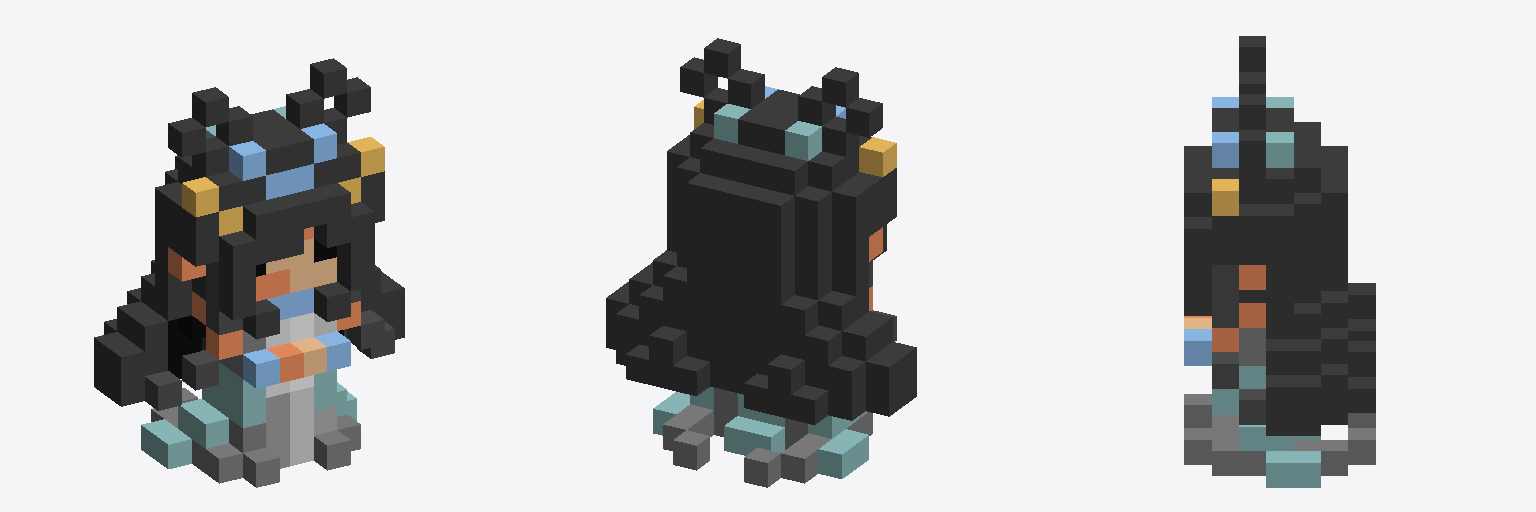
3 renders of one model, left to right at view 1: azimuth 30°, elevation 25°; view 2: azimuth 150°, elevation 25°; view 3: azimuth 270°, elevation 25°, orthographic.
Parts seen in each view (by area): view 1: Model; view 2: Model; view 3: Model.
Part boxes in pixels (x1,y1,x2,y2): Model: (94, 58, 404, 487); Model: (606, 38, 916, 487); Model: (1184, 36, 1375, 487).
Size of the model in its own units: 1.2 by 1.5 by 0.7.
Materials: 1 (1 with a texture image).